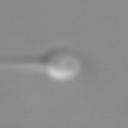normal: (1, 55, 49, 76)
